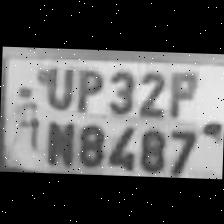2: (132, 65, 167, 118)
3: (102, 63, 136, 115)
4: (104, 118, 138, 170)
7: (164, 122, 198, 175)
8: (134, 120, 166, 172), (72, 116, 104, 166)
N: (38, 115, 76, 165)
P: (162, 66, 199, 119), (70, 62, 106, 112)
U: (40, 61, 74, 111)
